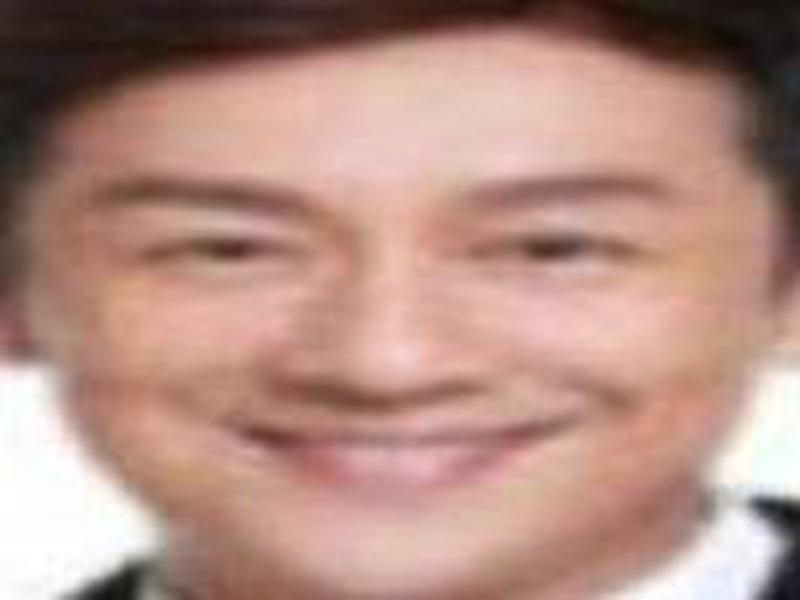without_mask: (31, 65, 768, 599)
